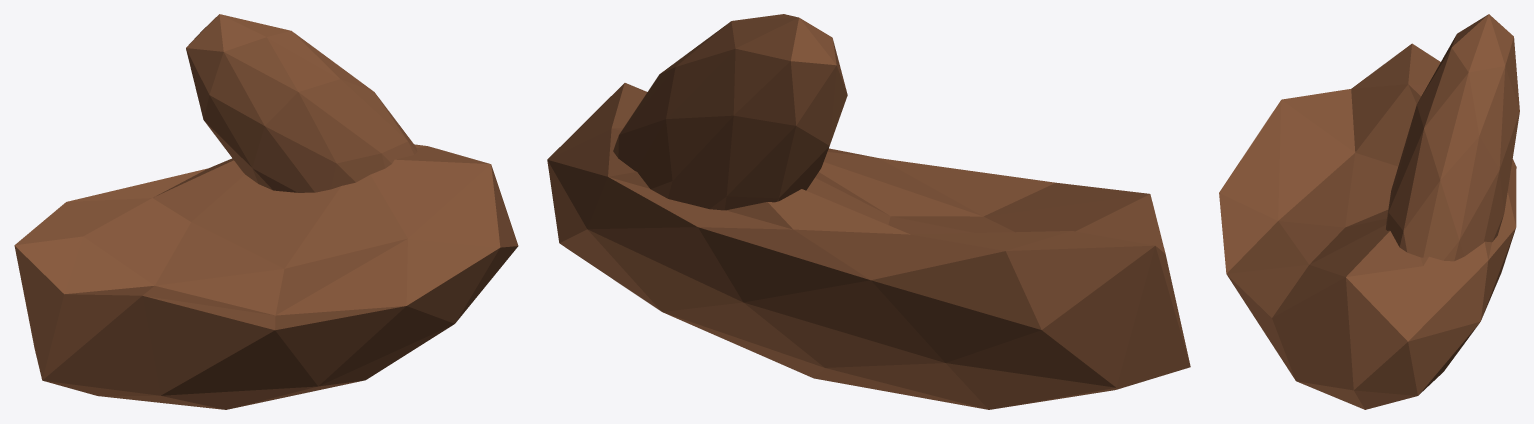
File: Hand.fbx
3 renders of one model, left to right at view 1: azimuth 30°, elevation 25°; view 2: azimuth 150°, elevation 25°; view 3: azimuth 270°, elevation 25°, orthographic. The views are drawn at different scales.
Visible parts, largest first — view 1: Icosphere; view 2: Icosphere; view 3: Icosphere.
Boxes of the visible parts, x1=… form: Icosphere: x1=14, y1=14, x2=518, y2=409; Icosphere: x1=547, y1=14, x2=1190, y2=409; Icosphere: x1=1219, y1=14, x2=1519, y2=409.
Size of the model in its own units: 101 by 66.34 by 52.58.
